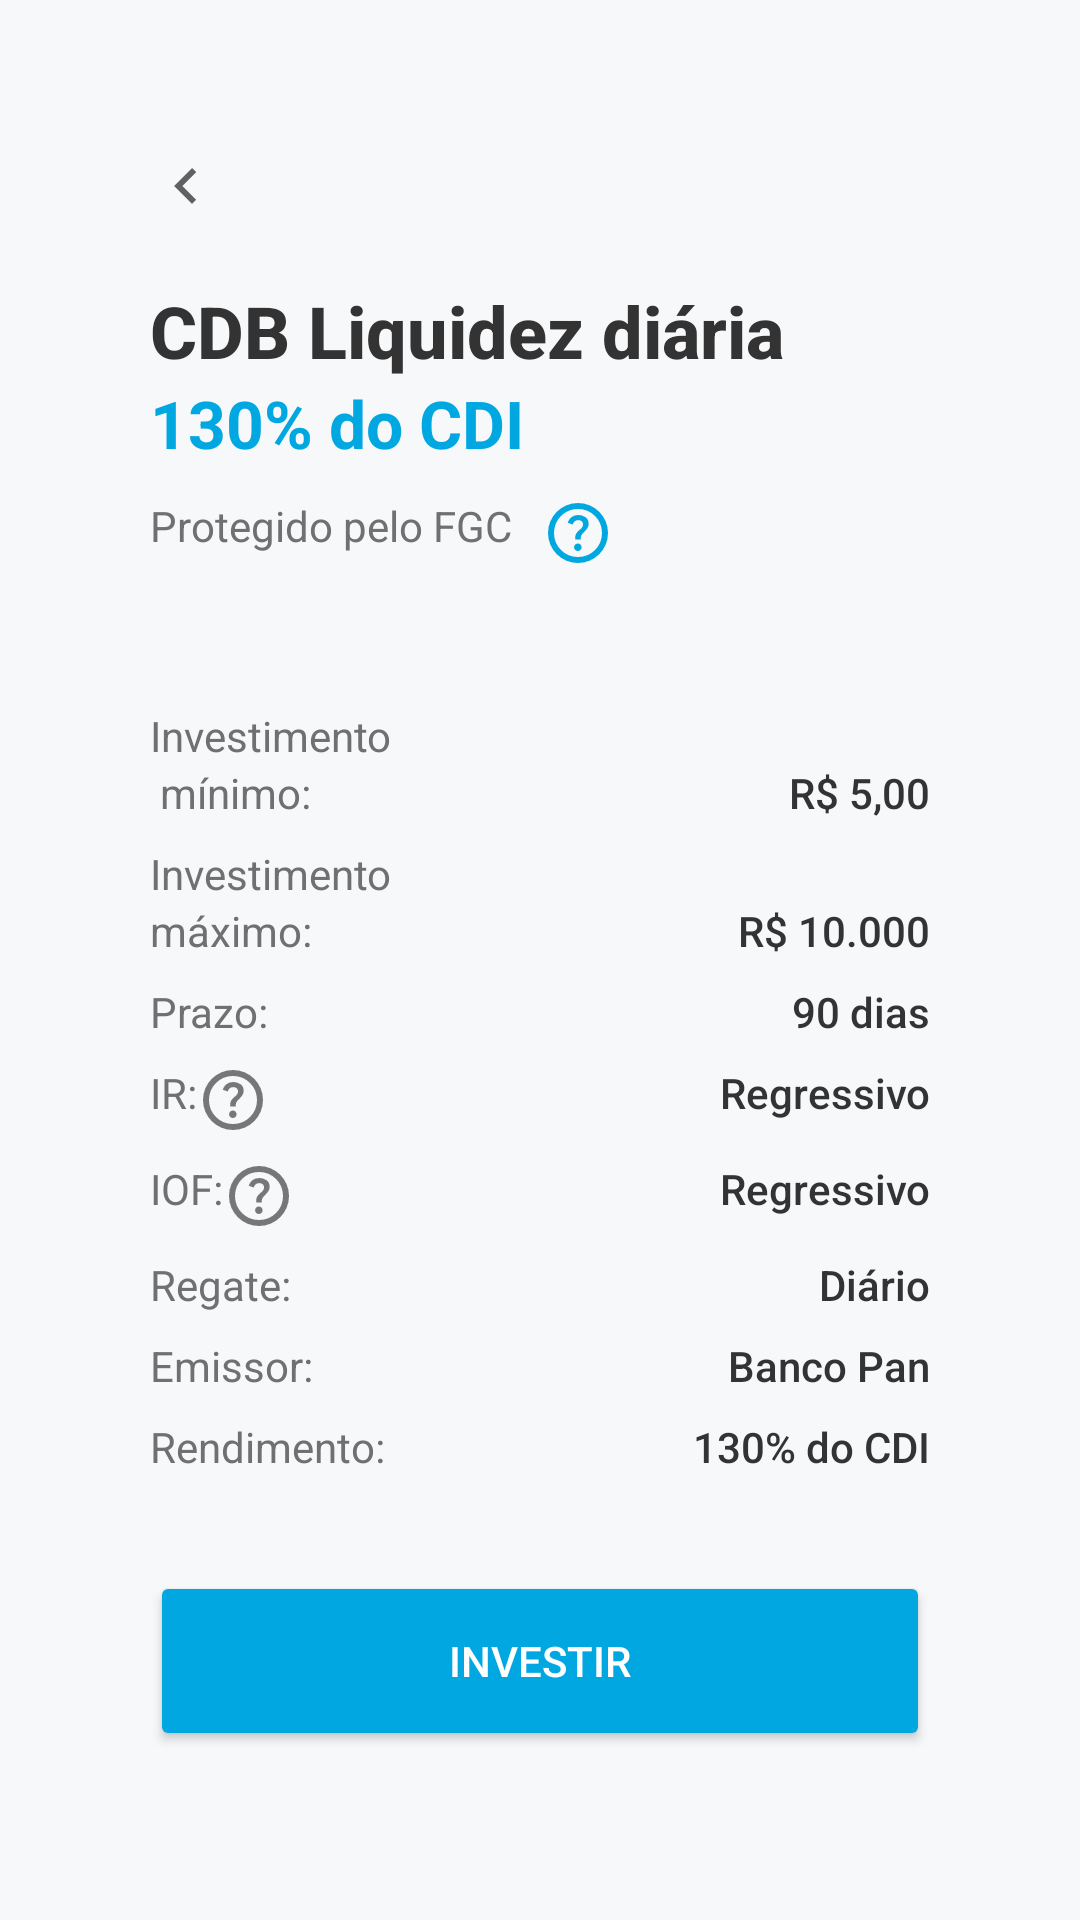

Point at icon controls on the screen. Image size 1080 × 1920, points as point (x, y).
seta iz: point (185, 186)
